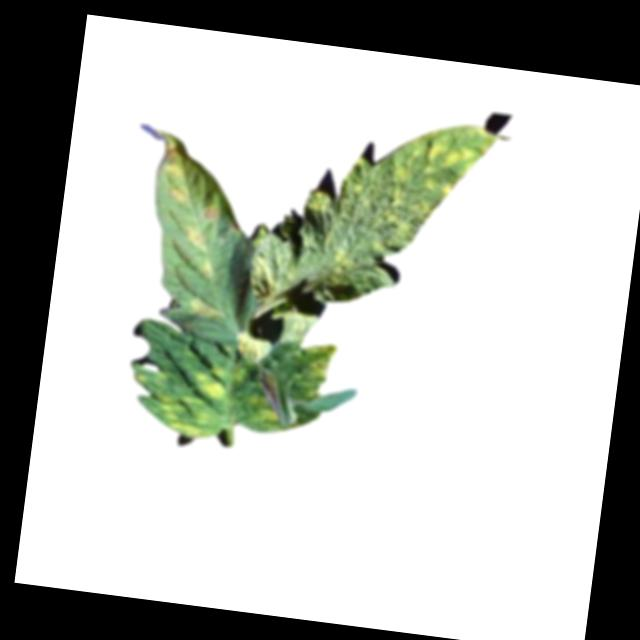Leaf_Mold: (372, 112, 499, 265), (126, 353, 235, 441), (295, 338, 341, 384), (158, 138, 193, 178), (231, 332, 271, 364), (185, 291, 220, 323), (177, 223, 212, 254), (326, 244, 359, 276), (195, 257, 221, 283), (167, 180, 188, 203)
